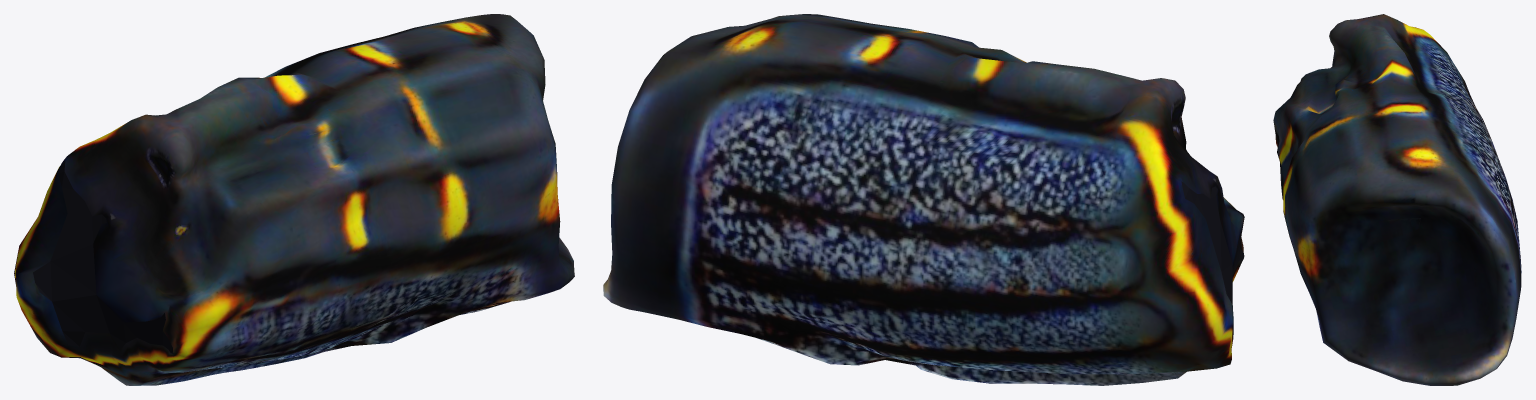
Rendered from upperarm1.glb.
The picture shows the model from 3 angles, left to right: view 1: azimuth 30°, elevation 25°; view 2: azimuth 150°, elevation 25°; view 3: azimuth 270°, elevation 25°; orthographic projection. The views are drawn at different scales.
Visible parts, largest first — view 1: mesh; view 2: mesh; view 3: mesh.
Boxes of the visible parts, <box> form: mesh: <box>14,14,574,385</box>; mesh: <box>603,14,1244,385</box>; mesh: <box>1273,14,1521,385</box>.
Bounding box in the file's own units: 0.4356 × 0.2271 × 0.2199.
Materials: 1 (1 with a texture image).
